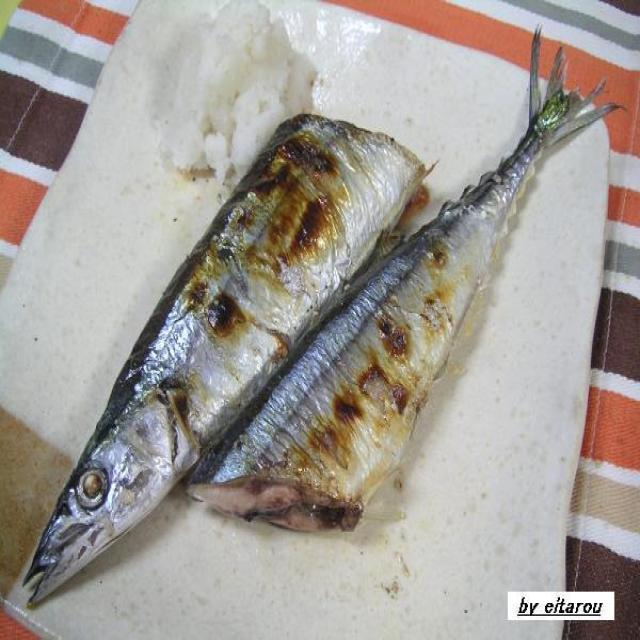熟制海鲜: (99, 99, 602, 572)
